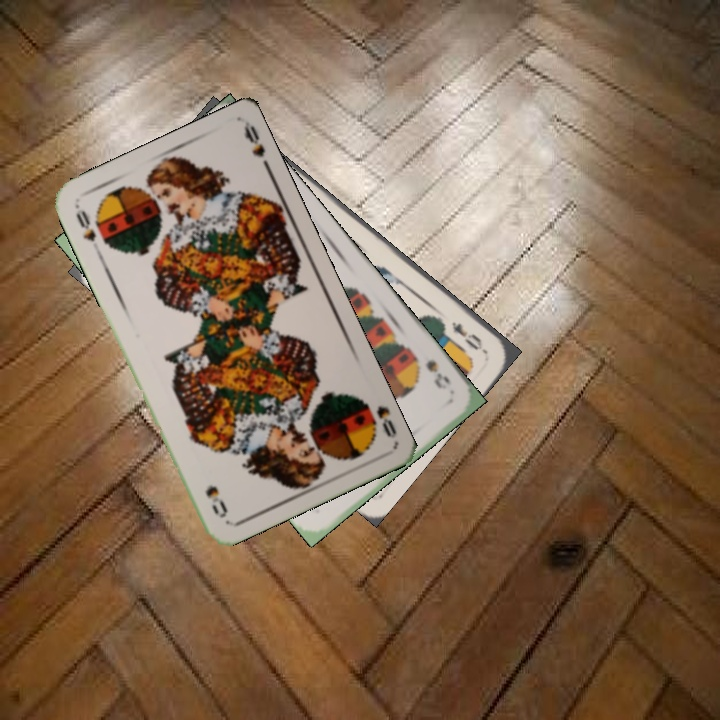EO: (447, 317, 488, 355)
S9: (409, 350, 453, 392)
SO: (356, 395, 399, 441), (71, 206, 105, 259)
